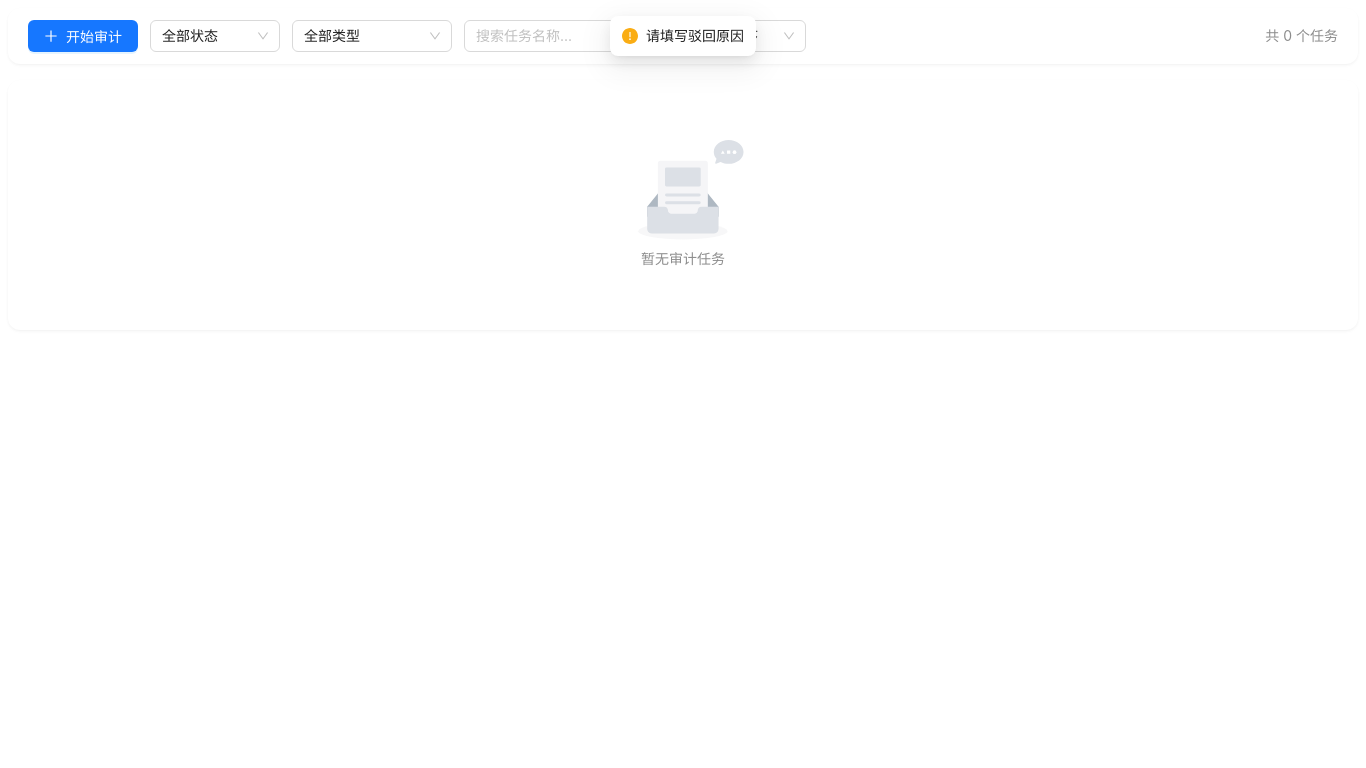
AuditTasksPage coverage gaps › upload section renders in document selector dropdown
Check: the text "开始审计" is shown, box [66, 26, 122, 46]
Click the button "开始审计" at point(83, 36), box [28, 20, 138, 52]
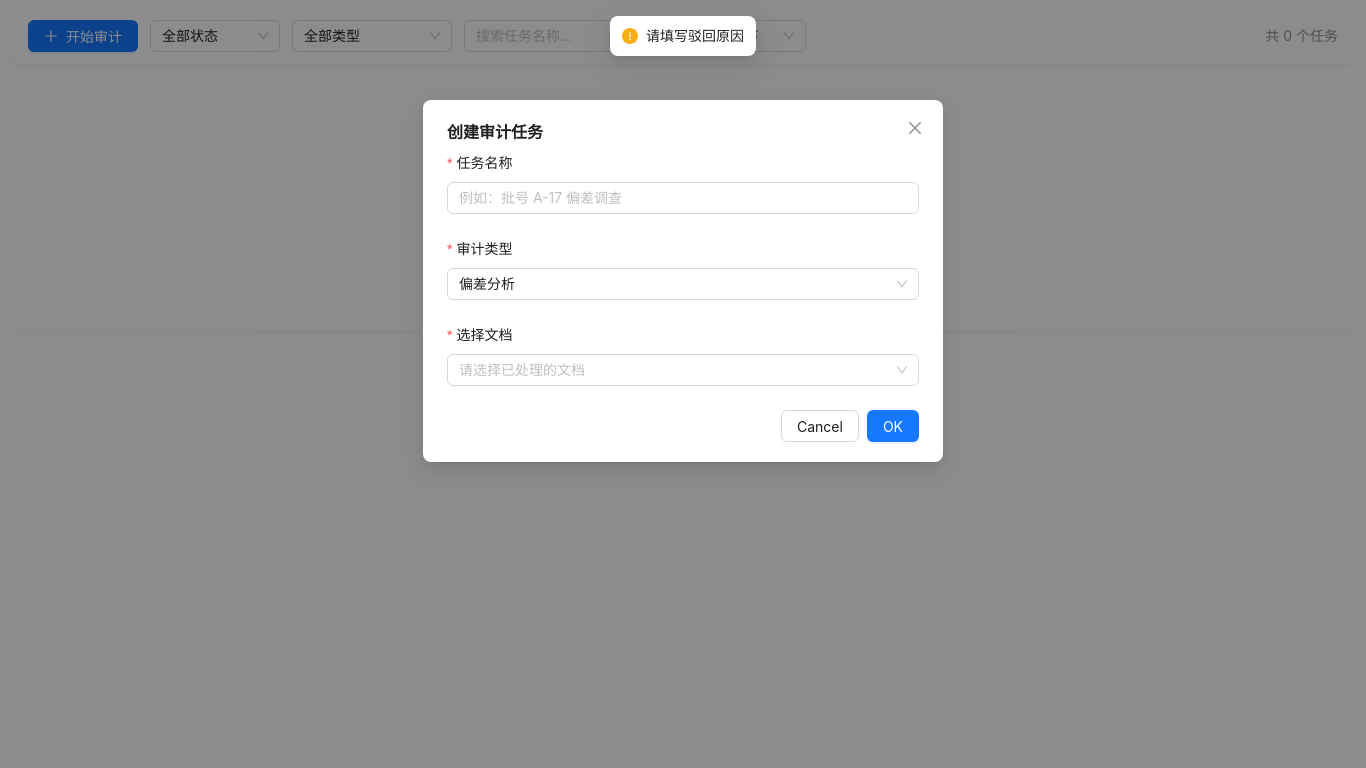
Check: the text "创建审计任务" is shown, box [447, 122, 543, 142]
Open the document select dropdown to reveal the upload button
Click the dropdown labelled "选择文档" at point(487, 335), box [447, 324, 526, 346]
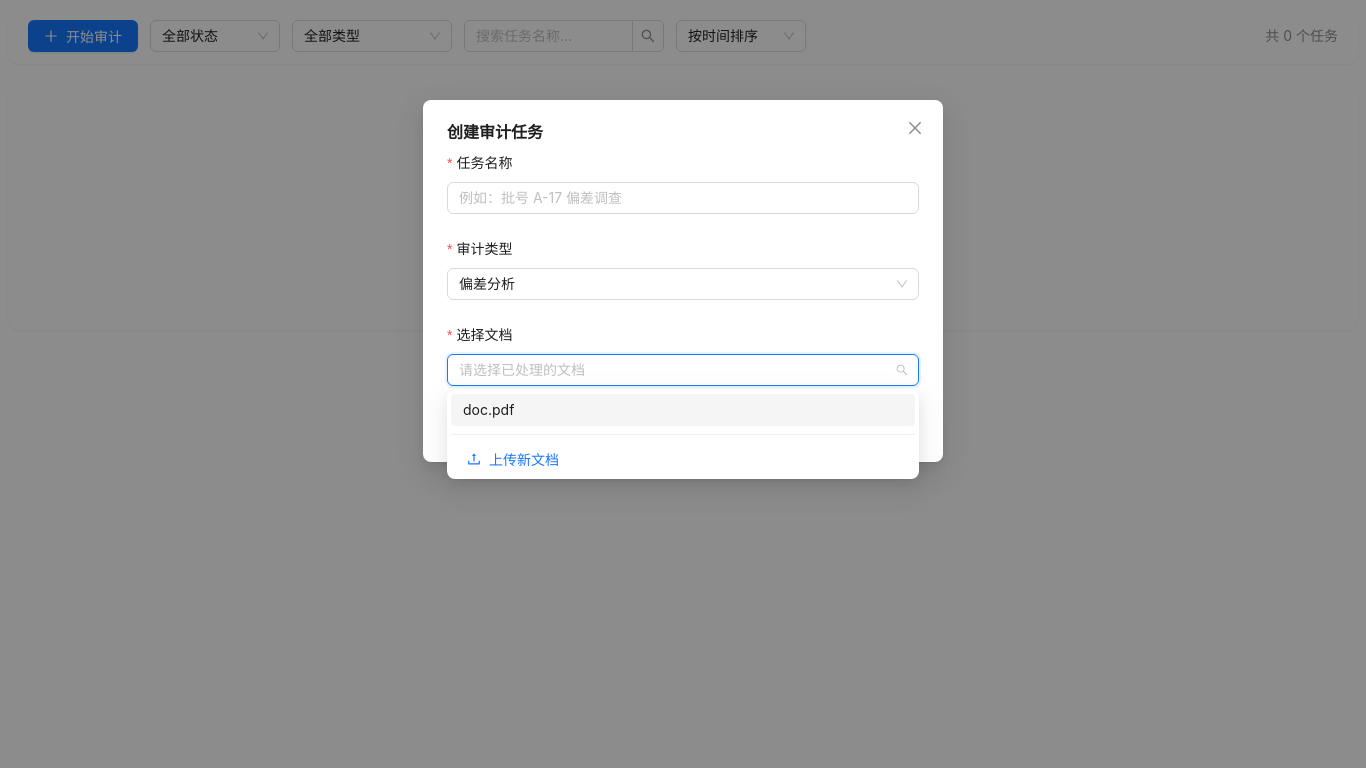
Check: the text "上传新文档" is shown, box [489, 449, 559, 469]
